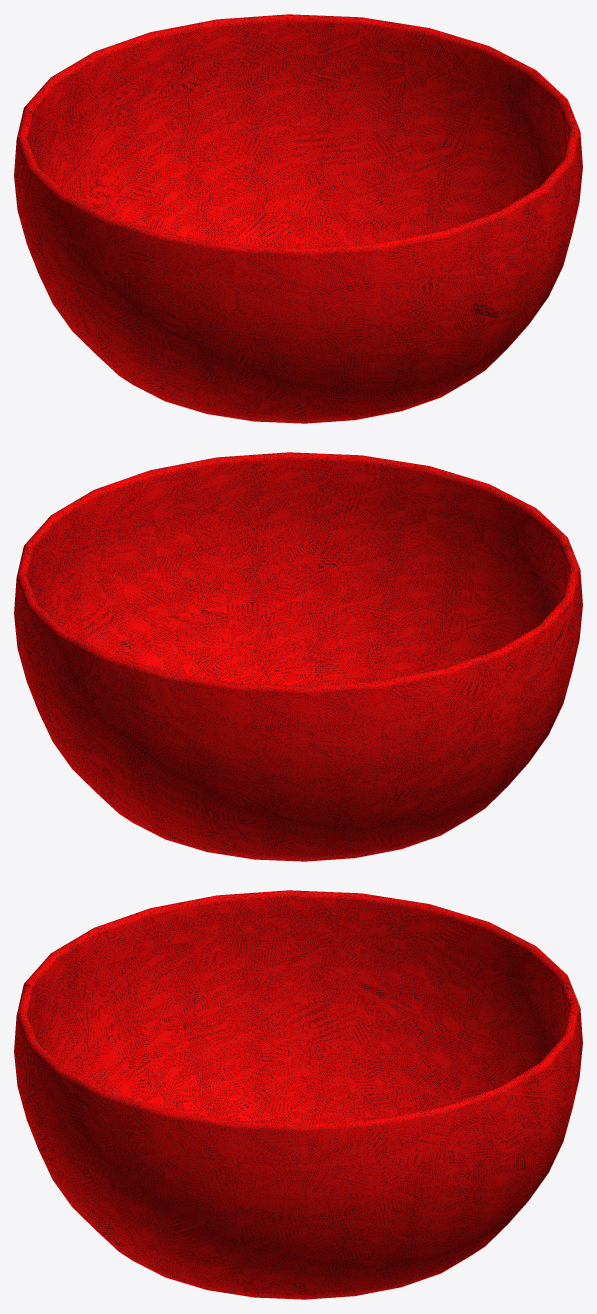
Rendered from bowl_01_origin_gt.dae.
3 renders of one model, top to bottom at view 1: azimuth 30°, elevation 25°; view 2: azimuth 150°, elevation 25°; view 3: azimuth 270°, elevation 25°, orthographic.
Visible parts, largest first — view 1: plato_hondo_sin_base (×2); view 2: plato_hondo_sin_base (×2); view 3: plato_hondo_sin_base (×2).
Part boxes in pixels (left/top/right/bottom): plato_hondo_sin_base (×2): left=14, top=14, right=582, bottom=423; plato_hondo_sin_base (×2): left=14, top=452, right=582, bottom=861; plato_hondo_sin_base (×2): left=14, top=890, right=582, bottom=1299.
Size of the model in its own units: 3.97 by 3.97 by 1.61.
